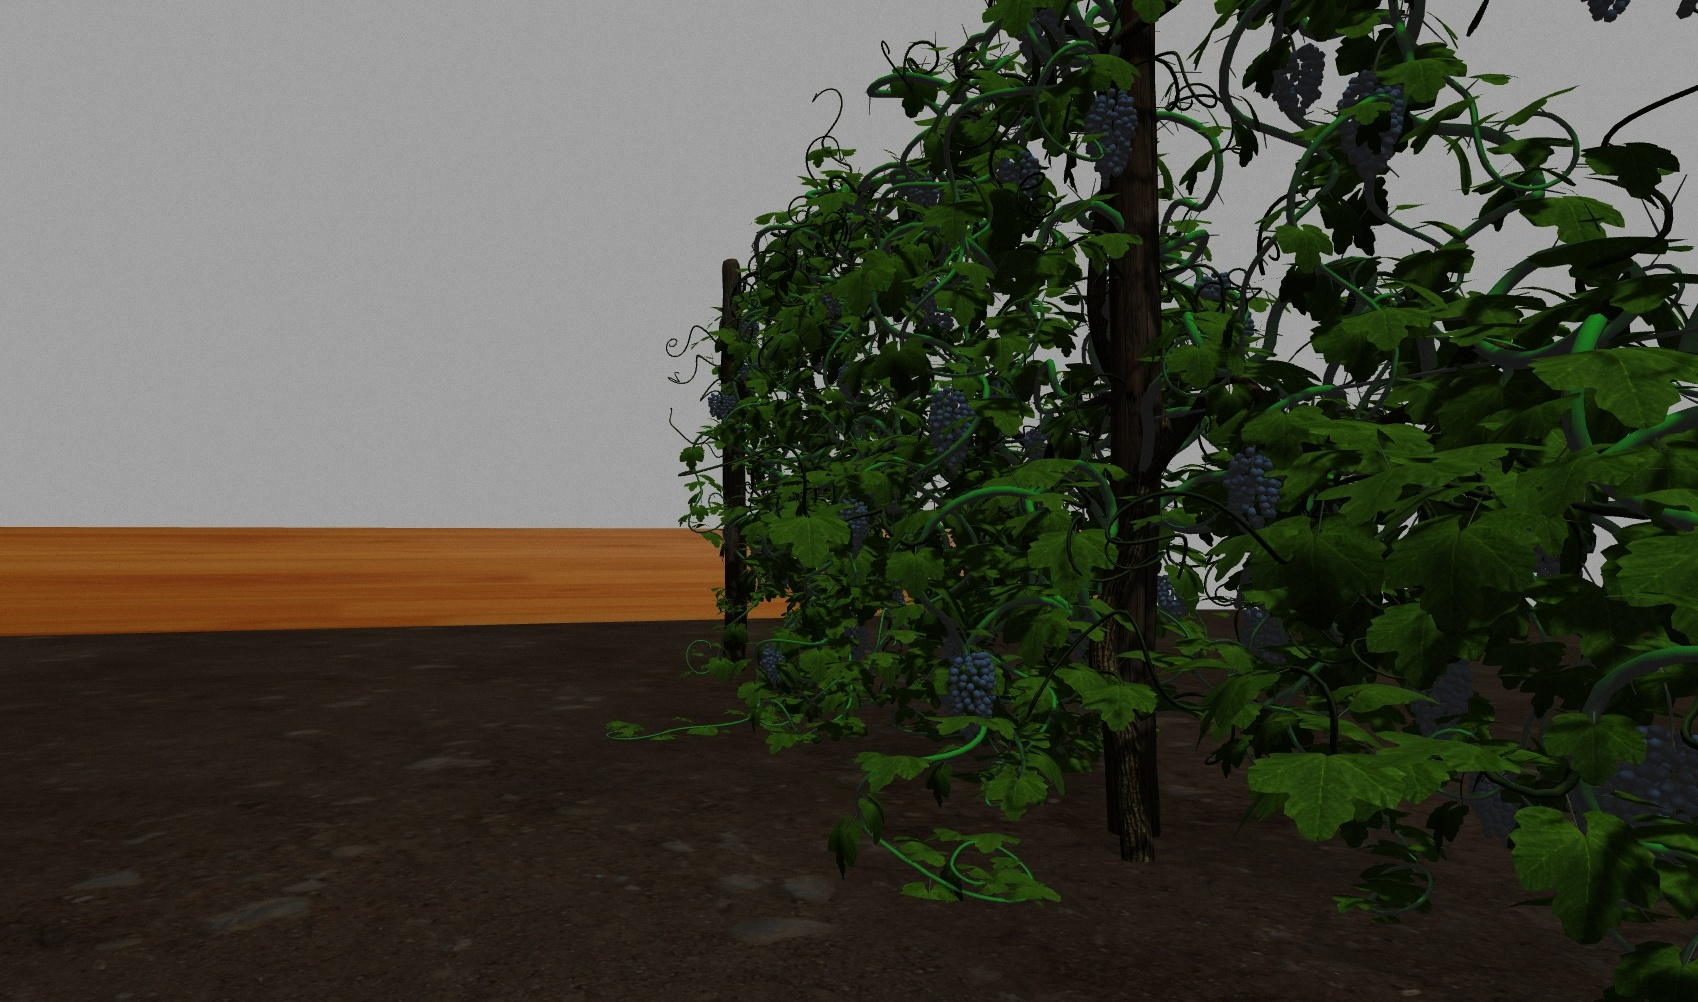grape: (1597, 715, 1694, 828), (1336, 70, 1403, 183), (1223, 447, 1283, 528), (1084, 89, 1138, 178), (1471, 757, 1525, 840), (928, 386, 977, 474), (1273, 42, 1325, 117), (947, 654, 996, 720), (1429, 664, 1475, 726), (1238, 606, 1287, 662), (994, 147, 1042, 197), (839, 497, 872, 558), (1154, 576, 1192, 620), (761, 644, 787, 686), (844, 621, 870, 660), (719, 396, 736, 417), (707, 392, 719, 417)
